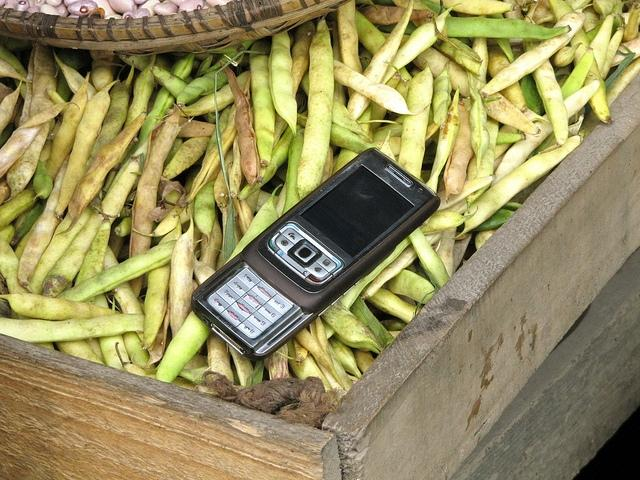green bean: (154, 183, 282, 383), (382, 33, 541, 135), (452, 135, 582, 239), (42, 160, 139, 299), (479, 3, 597, 113), (490, 80, 600, 188), (56, 112, 146, 236), (361, 198, 467, 300), (128, 102, 180, 298), (320, 236, 412, 340), (184, 70, 250, 208), (55, 80, 120, 219), (121, 52, 195, 164), (347, 1, 414, 122), (549, 0, 613, 124), (55, 241, 177, 302), (17, 152, 72, 287), (522, 0, 568, 155), (296, 18, 334, 200), (380, 3, 462, 84), (0, 102, 80, 178), (30, 206, 94, 296), (300, 68, 373, 141), (142, 215, 181, 350), (333, 60, 430, 114), (46, 72, 90, 182), (224, 66, 262, 188), (0, 314, 145, 344), (398, 60, 434, 180), (355, 9, 413, 82), (3, 119, 52, 203), (85, 82, 129, 175), (165, 70, 250, 118), (116, 342, 198, 391), (104, 244, 144, 342), (425, 85, 461, 193), (296, 113, 381, 154), (249, 40, 276, 168), (442, 96, 474, 202), (2, 293, 122, 321), (168, 212, 194, 339), (296, 328, 346, 392), (466, 114, 498, 214), (74, 217, 110, 305), (445, 16, 572, 40), (268, 33, 297, 138), (112, 50, 194, 86), (321, 300, 380, 348), (487, 44, 528, 113), (94, 294, 131, 370), (132, 193, 194, 237), (466, 70, 490, 179), (286, 338, 334, 392), (122, 54, 156, 130), (409, 227, 450, 286), (311, 338, 354, 394), (337, 2, 362, 98), (352, 296, 396, 350), (54, 50, 98, 102), (30, 41, 59, 119), (176, 66, 228, 108), (162, 136, 211, 180), (436, 175, 496, 210), (290, 20, 316, 100), (432, 37, 482, 77), (366, 289, 422, 324), (380, 269, 435, 304), (282, 128, 304, 214), (0, 236, 31, 294), (600, 13, 626, 82), (561, 47, 594, 101), (418, 206, 478, 234), (0, 190, 40, 231), (10, 199, 43, 248), (199, 201, 222, 270), (590, 13, 616, 74), (194, 178, 216, 248), (206, 331, 234, 385), (486, 14, 516, 64), (358, 5, 432, 25), (329, 336, 362, 378), (54, 339, 106, 365), (19, 43, 35, 127), (0, 75, 22, 135), (122, 331, 156, 369), (432, 0, 518, 15), (276, 325, 310, 362), (56, 48, 79, 102), (432, 68, 452, 130), (194, 248, 227, 285), (152, 66, 190, 98), (472, 15, 489, 84), (332, 28, 346, 107), (436, 228, 457, 278), (234, 187, 255, 236), (520, 73, 542, 116), (0, 46, 28, 79), (229, 132, 243, 198), (32, 160, 54, 200), (223, 197, 235, 264), (316, 317, 332, 364), (268, 343, 288, 380), (621, 2, 639, 43), (92, 59, 114, 92), (554, 43, 582, 67), (582, 0, 600, 34), (592, 0, 622, 20), (114, 209, 132, 237), (494, 147, 511, 174), (496, 132, 526, 146), (0, 82, 15, 104), (230, 360, 240, 386), (394, 294, 416, 305), (276, 162, 288, 182)
